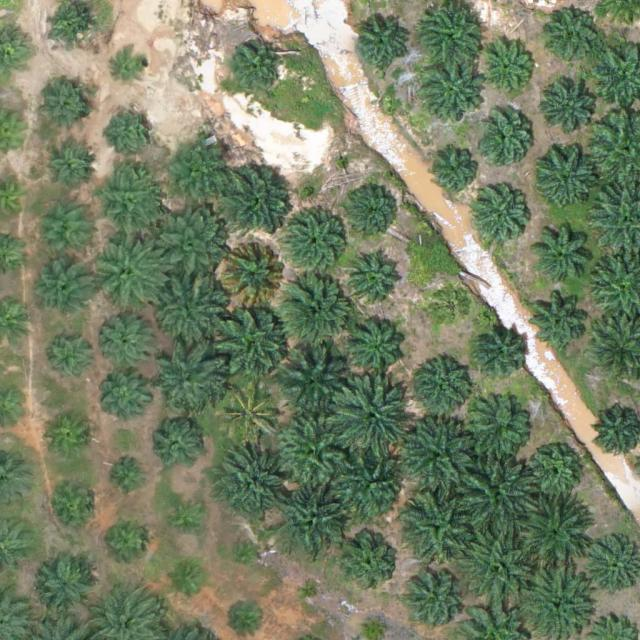Dead: (429, 282, 476, 330)
Grass: (214, 377, 285, 448)
Healthy: (91, 231, 169, 310), (218, 159, 296, 238), (214, 306, 292, 385), (153, 272, 231, 351), (151, 339, 229, 418), (278, 269, 356, 348), (275, 414, 353, 493), (217, 443, 295, 522), (330, 378, 408, 457), (336, 452, 414, 531), (396, 418, 474, 497), (397, 490, 475, 569), (459, 454, 537, 533), (459, 527, 537, 606), (519, 490, 597, 569), (271, 480, 349, 559), (148, 209, 226, 287), (277, 342, 355, 420), (164, 136, 234, 207), (282, 209, 352, 280), (462, 398, 533, 468), (95, 169, 165, 239), (99, 309, 162, 372), (530, 288, 593, 351), (420, 3, 483, 66), (409, 359, 472, 422), (32, 558, 94, 621), (534, 147, 597, 209), (531, 221, 593, 284), (423, 61, 485, 124), (345, 312, 407, 375), (338, 532, 400, 595), (404, 569, 467, 631), (32, 204, 94, 266), (37, 260, 92, 315), (98, 368, 153, 423), (548, 9, 603, 64), (543, 83, 598, 138), (481, 43, 536, 98), (479, 114, 534, 169), (474, 191, 529, 246), (355, 18, 410, 73), (473, 322, 527, 378), (148, 418, 202, 473), (350, 249, 404, 304), (347, 184, 401, 239)
Small: (41, 82, 96, 137), (229, 44, 284, 99), (528, 445, 583, 500), (428, 143, 483, 198), (43, 143, 97, 198), (46, 3, 93, 51), (109, 105, 156, 153), (46, 411, 93, 458), (51, 336, 98, 383), (47, 483, 94, 530), (102, 519, 149, 566), (112, 48, 151, 88), (109, 454, 148, 494), (167, 502, 206, 542), (170, 562, 209, 601), (229, 538, 260, 569), (300, 576, 323, 600)
Yellow: (219, 240, 289, 310)
